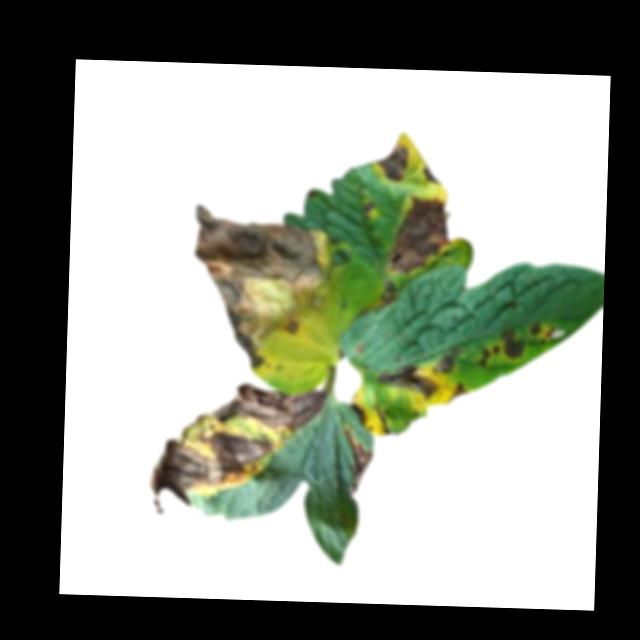Early_blight: (189, 202, 333, 372), (146, 429, 285, 519), (193, 380, 328, 435), (384, 191, 453, 276), (374, 361, 438, 400), (343, 429, 374, 494), (373, 138, 408, 185), (499, 328, 525, 361), (433, 347, 463, 375), (476, 342, 504, 371), (528, 318, 555, 346), (348, 400, 371, 428), (449, 380, 470, 407), (421, 162, 444, 185), (380, 280, 398, 304), (363, 200, 378, 221)
